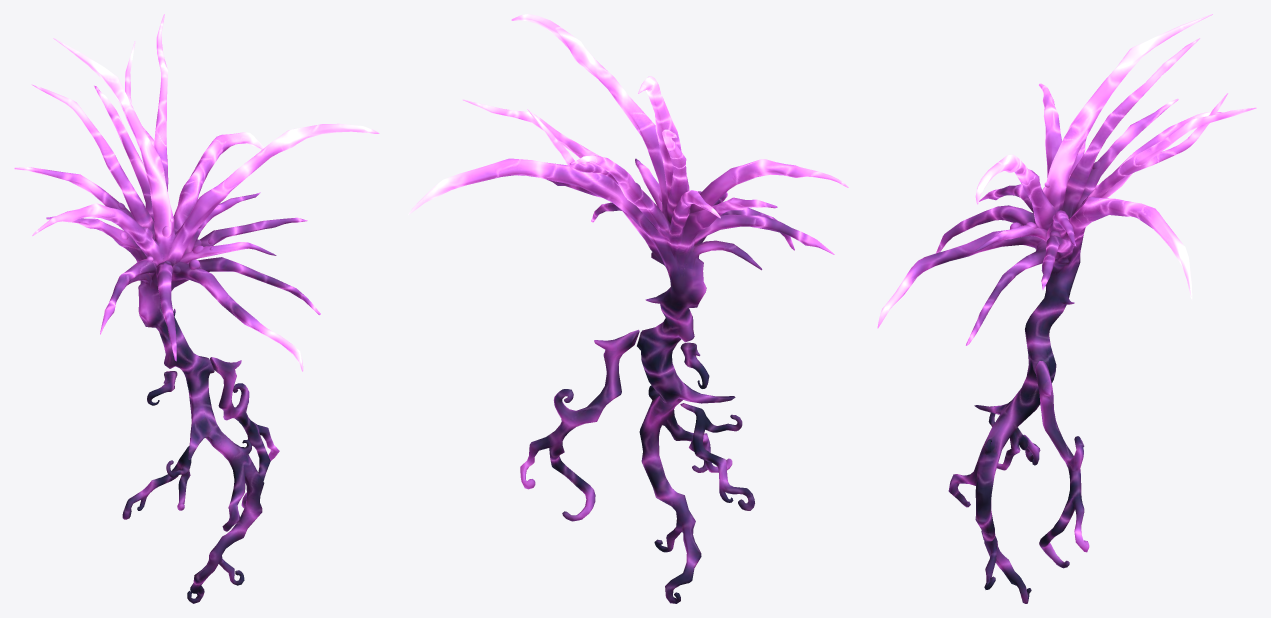
The model's file is caos_sts_chaosplant_01c_v35.glb.
The picture shows the model from 3 angles, left to right: view 1: azimuth 30°, elevation 25°; view 2: azimuth 150°, elevation 25°; view 3: azimuth 270°, elevation 25°; orthographic projection. The views are drawn at different scales.
Parts seen in each view (by area): view 1: caos_sts_chaosplant_01c; view 2: caos_sts_chaosplant_01c; view 3: caos_sts_chaosplant_01c.
Boxes of the visible parts, <box> form: caos_sts_chaosplant_01c: <box>14,14,379,603</box>; caos_sts_chaosplant_01c: <box>408,14,848,603</box>; caos_sts_chaosplant_01c: <box>877,14,1256,603</box>.
Bounding box in the file's own units: 4.69 × 7.25 × 4.45.
Materials: 1 (1 with a texture image).
